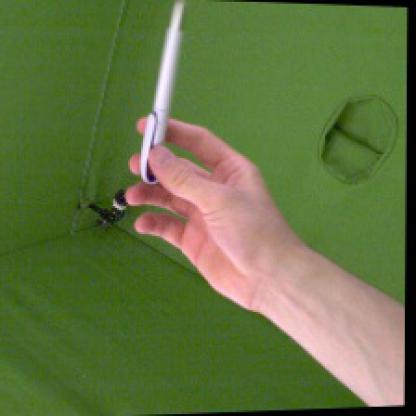Hand: (124, 116, 282, 313)
